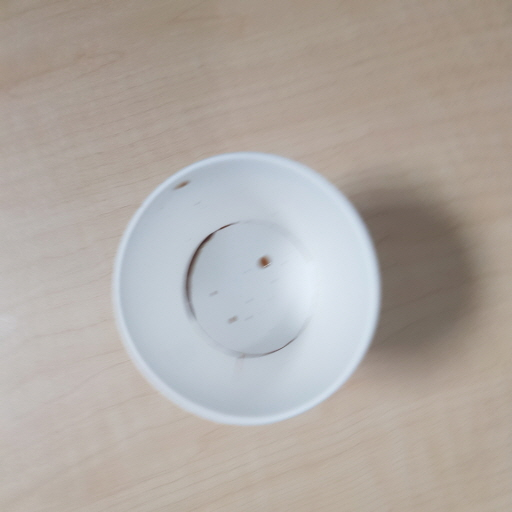Paper_1: (113, 147, 383, 426)
